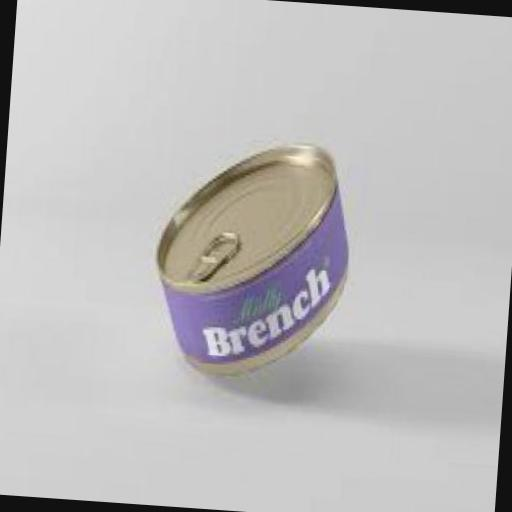metal: (146, 127, 355, 386)
